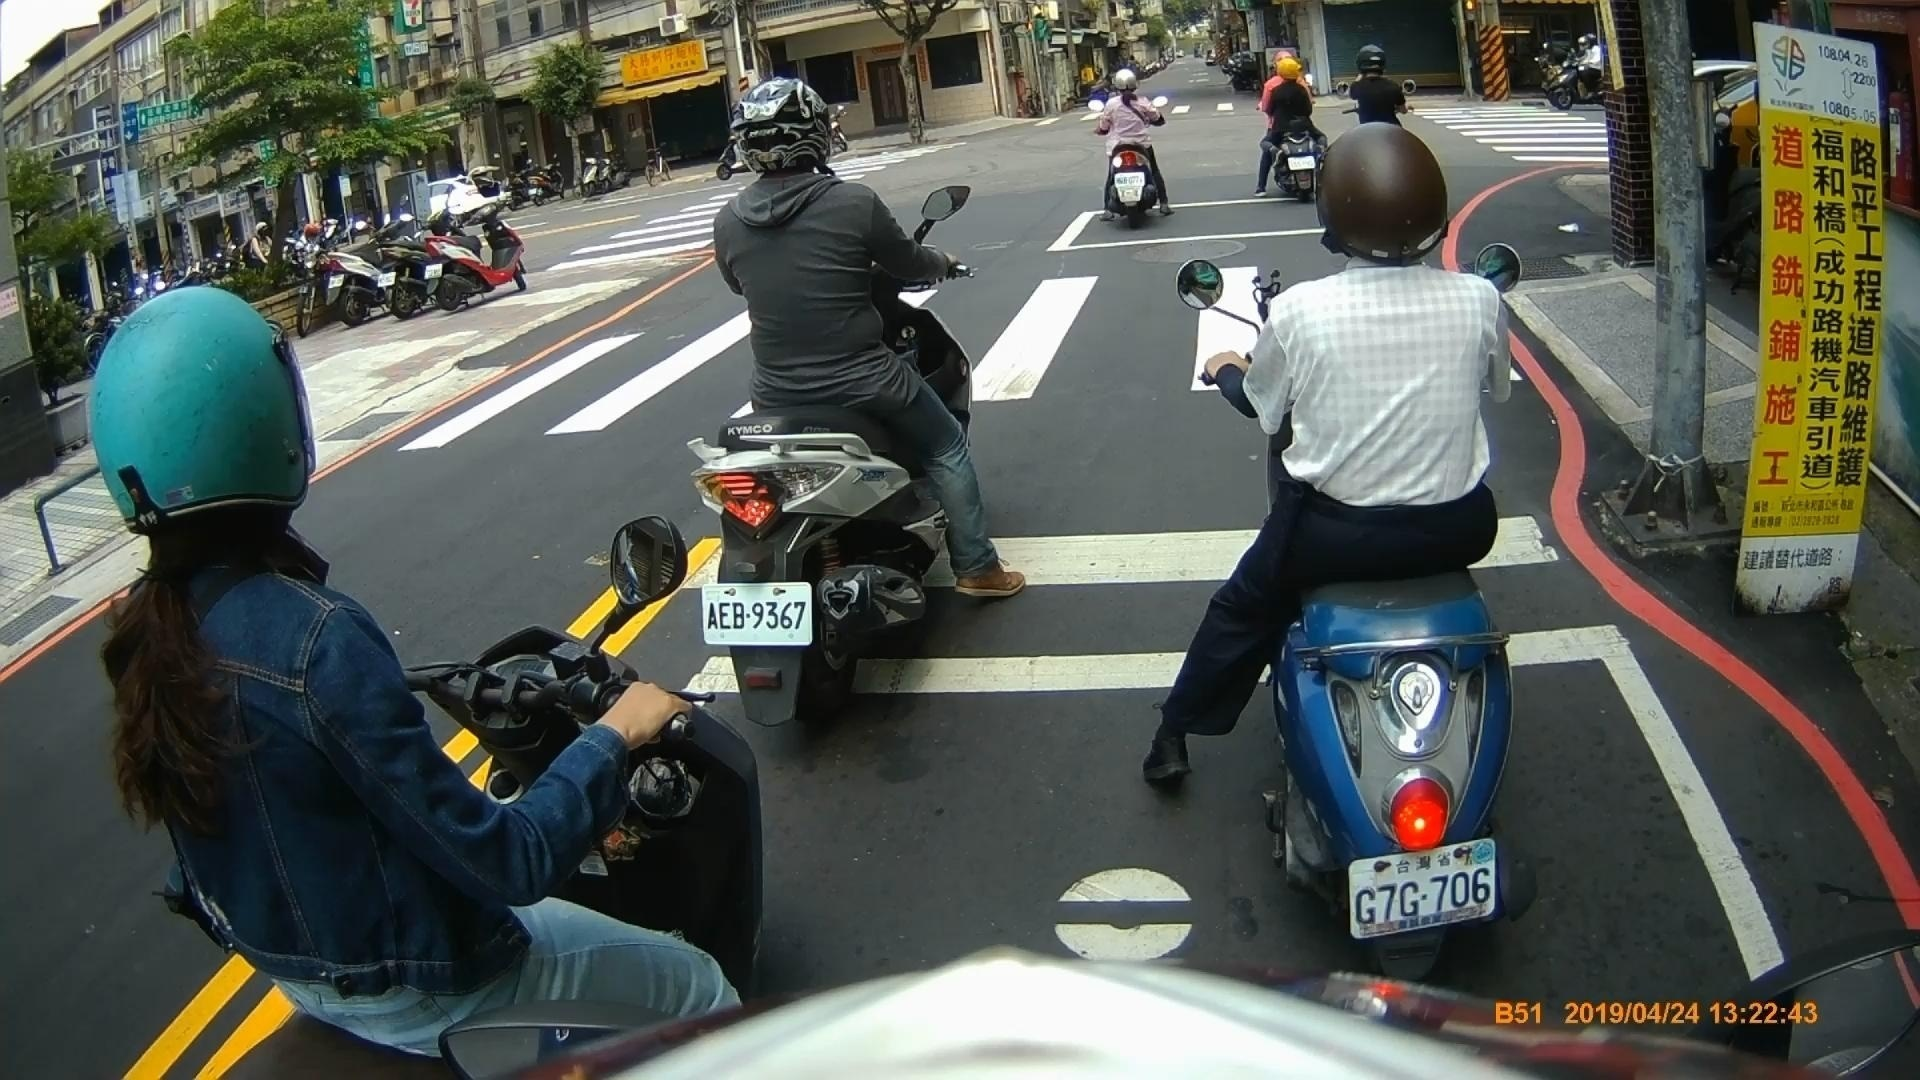License_plate: (1347, 844, 1500, 931), (693, 582, 819, 648)
